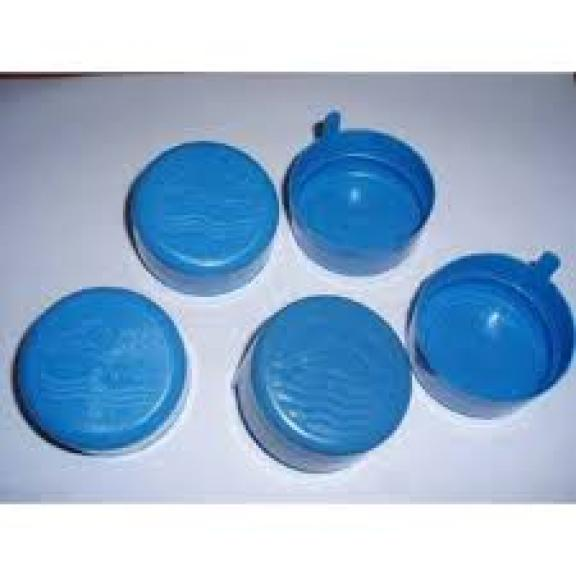Plastik: (230, 294, 415, 476), (13, 287, 187, 461), (404, 253, 576, 422), (123, 141, 282, 300), (289, 115, 433, 276)
